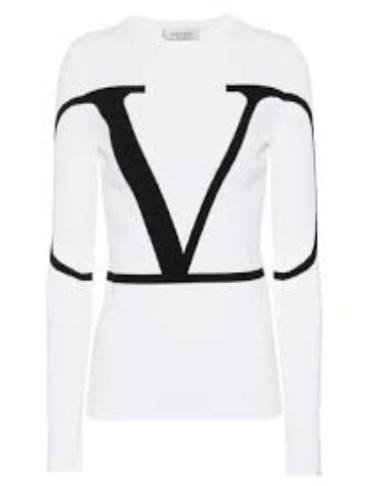VALENTINO: (23, 63, 337, 287)
